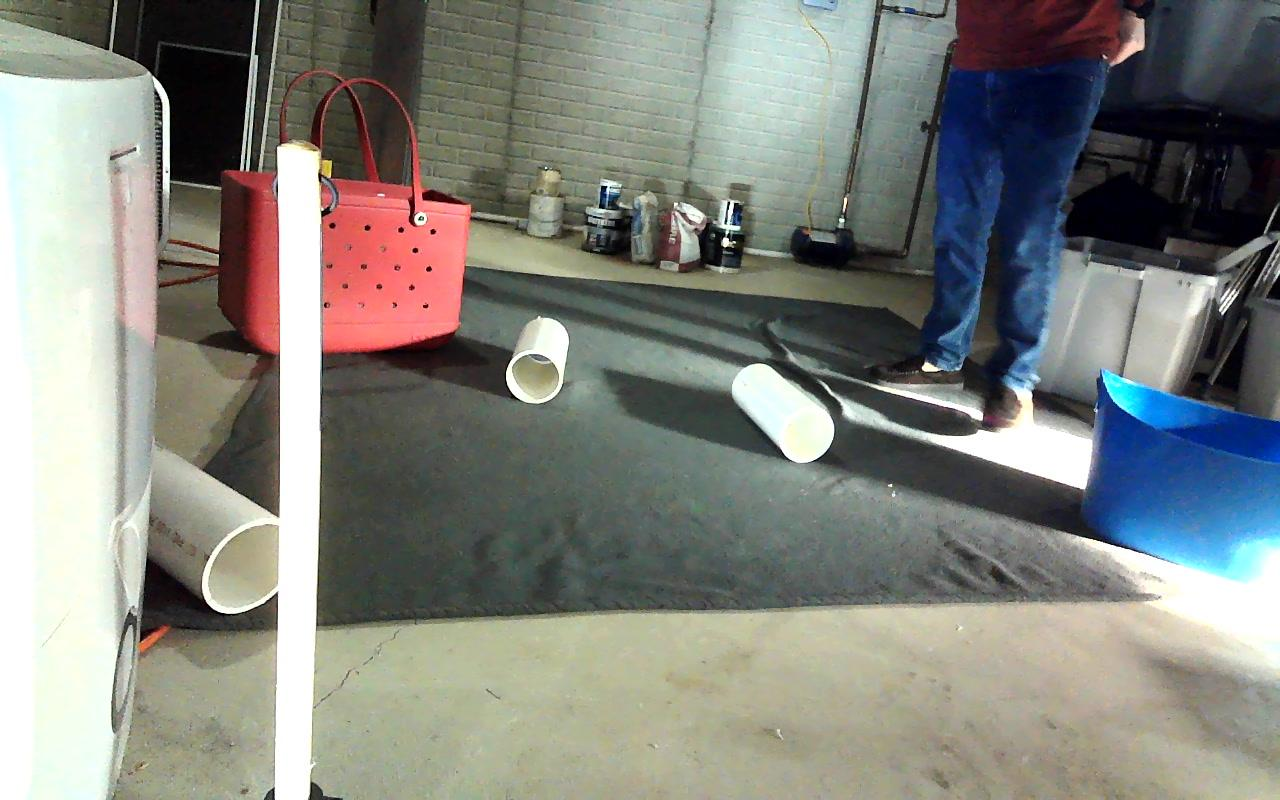coral: (144, 439, 280, 613), (730, 363, 834, 463), (505, 316, 568, 403)
